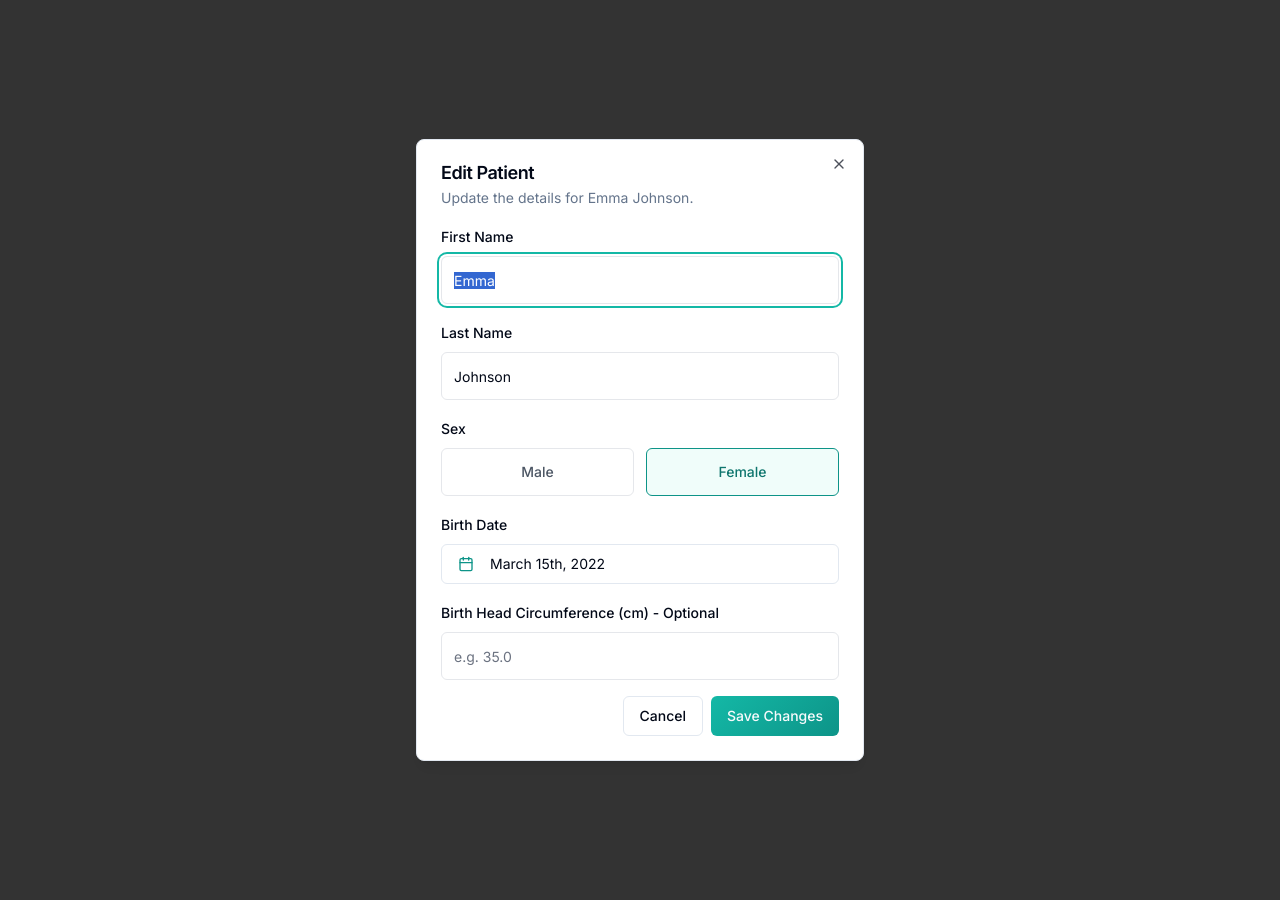
EditPatientDialog › shows error for out-of-range birth head circumference
This screenshot has width=1280, height=900.
Step 1. Type "99" into the field labelled "Birth Head Circumference (cm) - Optional" → (640, 656), box [441,632,839,680]
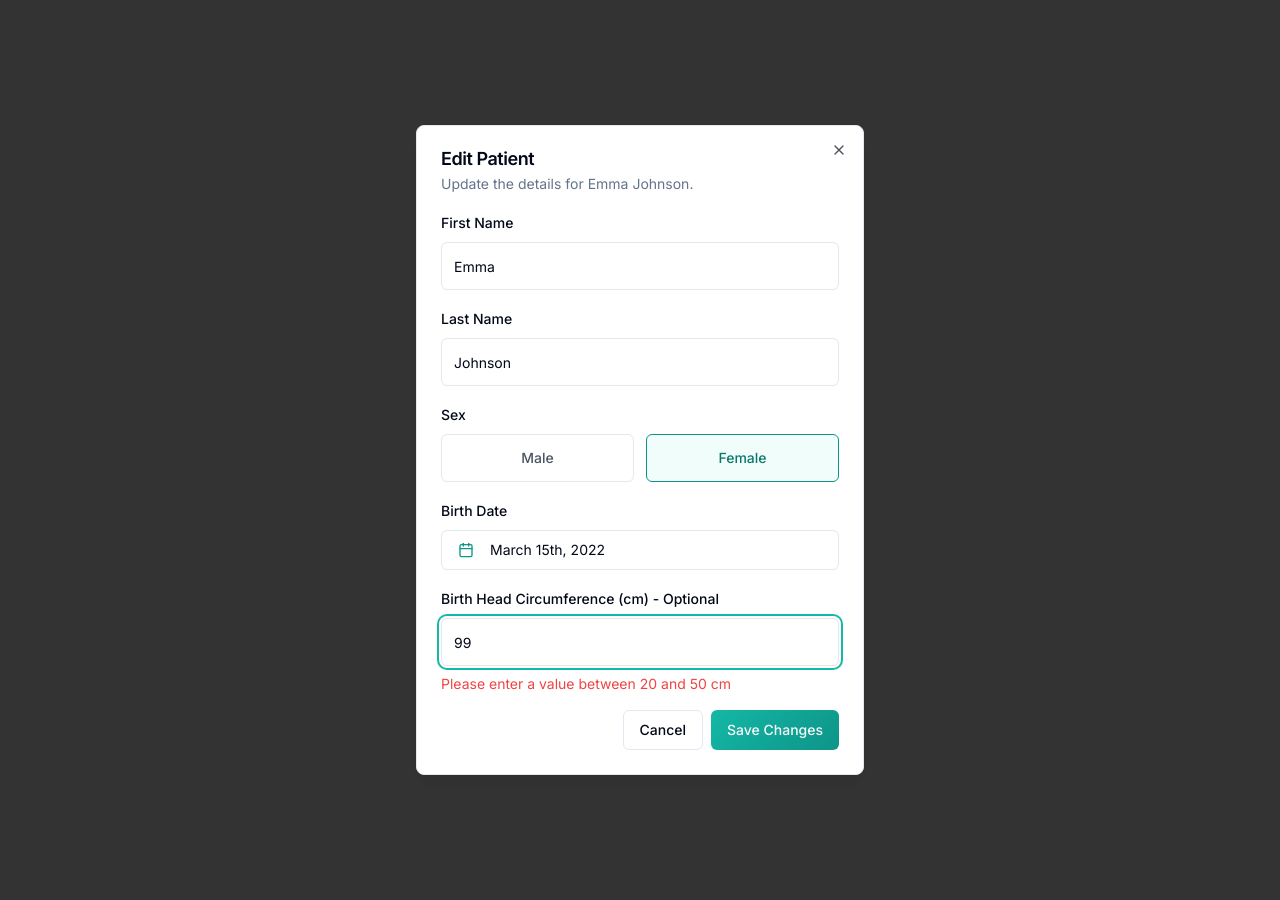
Expected: the text "Please enter a value between 20 and 50 cm" is shown, [441,675,731,692]
